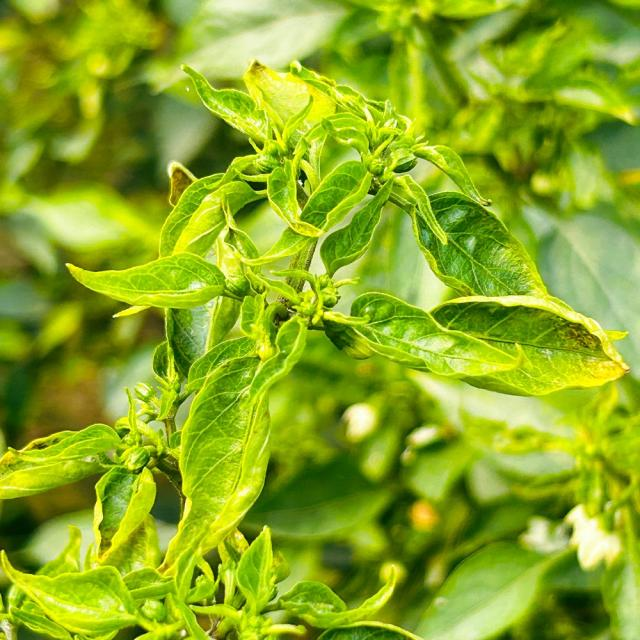Chilli_Leaf_Curl: (1, 55, 632, 638), (157, 308, 308, 586), (322, 290, 630, 397), (64, 250, 227, 318)
